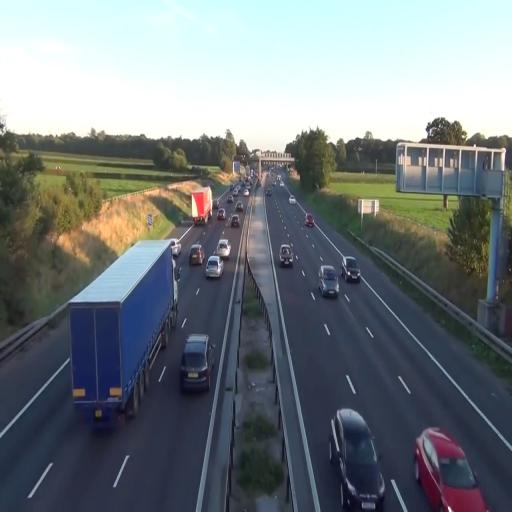vehicle: (70, 238, 178, 425), (414, 426, 490, 510), (329, 408, 386, 511), (179, 334, 211, 393), (191, 186, 213, 224), (320, 265, 339, 298), (343, 256, 361, 281), (205, 254, 223, 278), (188, 244, 206, 267), (279, 242, 294, 267), (216, 236, 231, 260)
